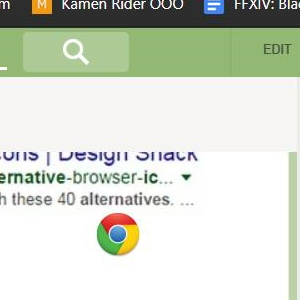chrome: (96, 212, 140, 256)
